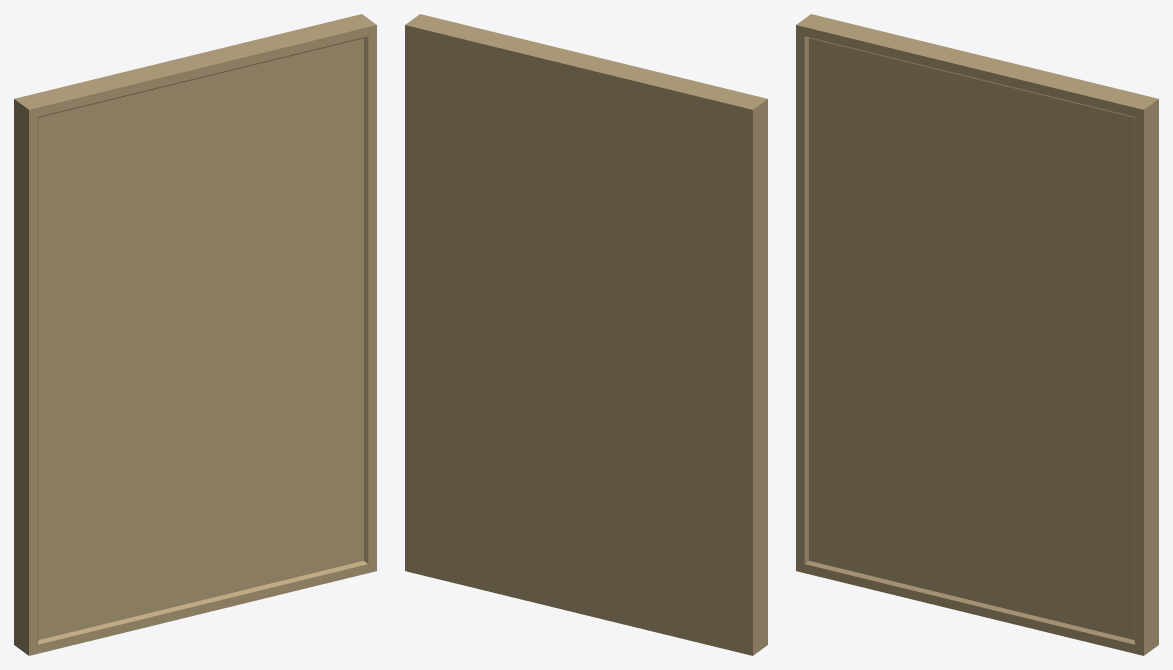
The model's file is Roof.fbx.
The picture shows the model from 3 angles, left to right: view 1: azimuth 30°, elevation 25°; view 2: azimuth 150°, elevation 25°; view 3: azimuth 330°, elevation 25°; orthographic projection.
Parts seen in each view (by area): view 1: Roof2; view 2: Roof2; view 3: Roof2.
Part boxes in pixels (x1,y1,x2,y2): Roof2: (14,14,376,655); Roof2: (405,14,767,655); Roof2: (796,14,1158,655).
Size of the model in its own units: 200 by 300 by 15.
